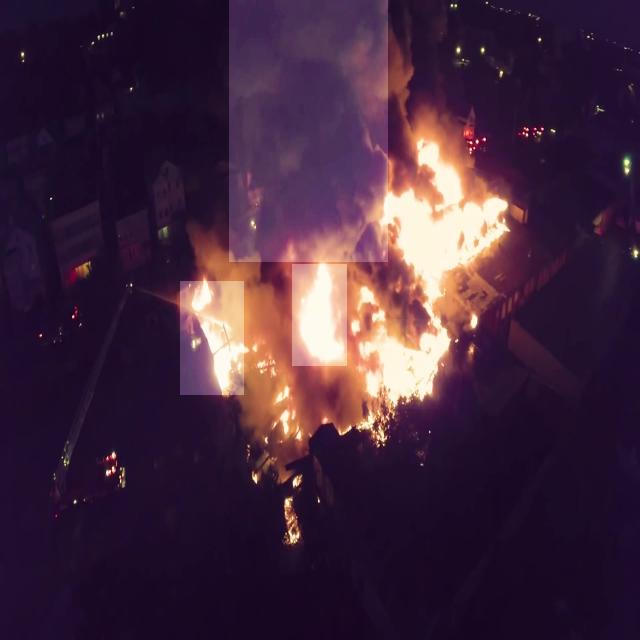Fire: (388, 158, 500, 279), (180, 281, 244, 395), (362, 319, 439, 409), (292, 264, 347, 366)
Smoke: (229, 0, 388, 262)
